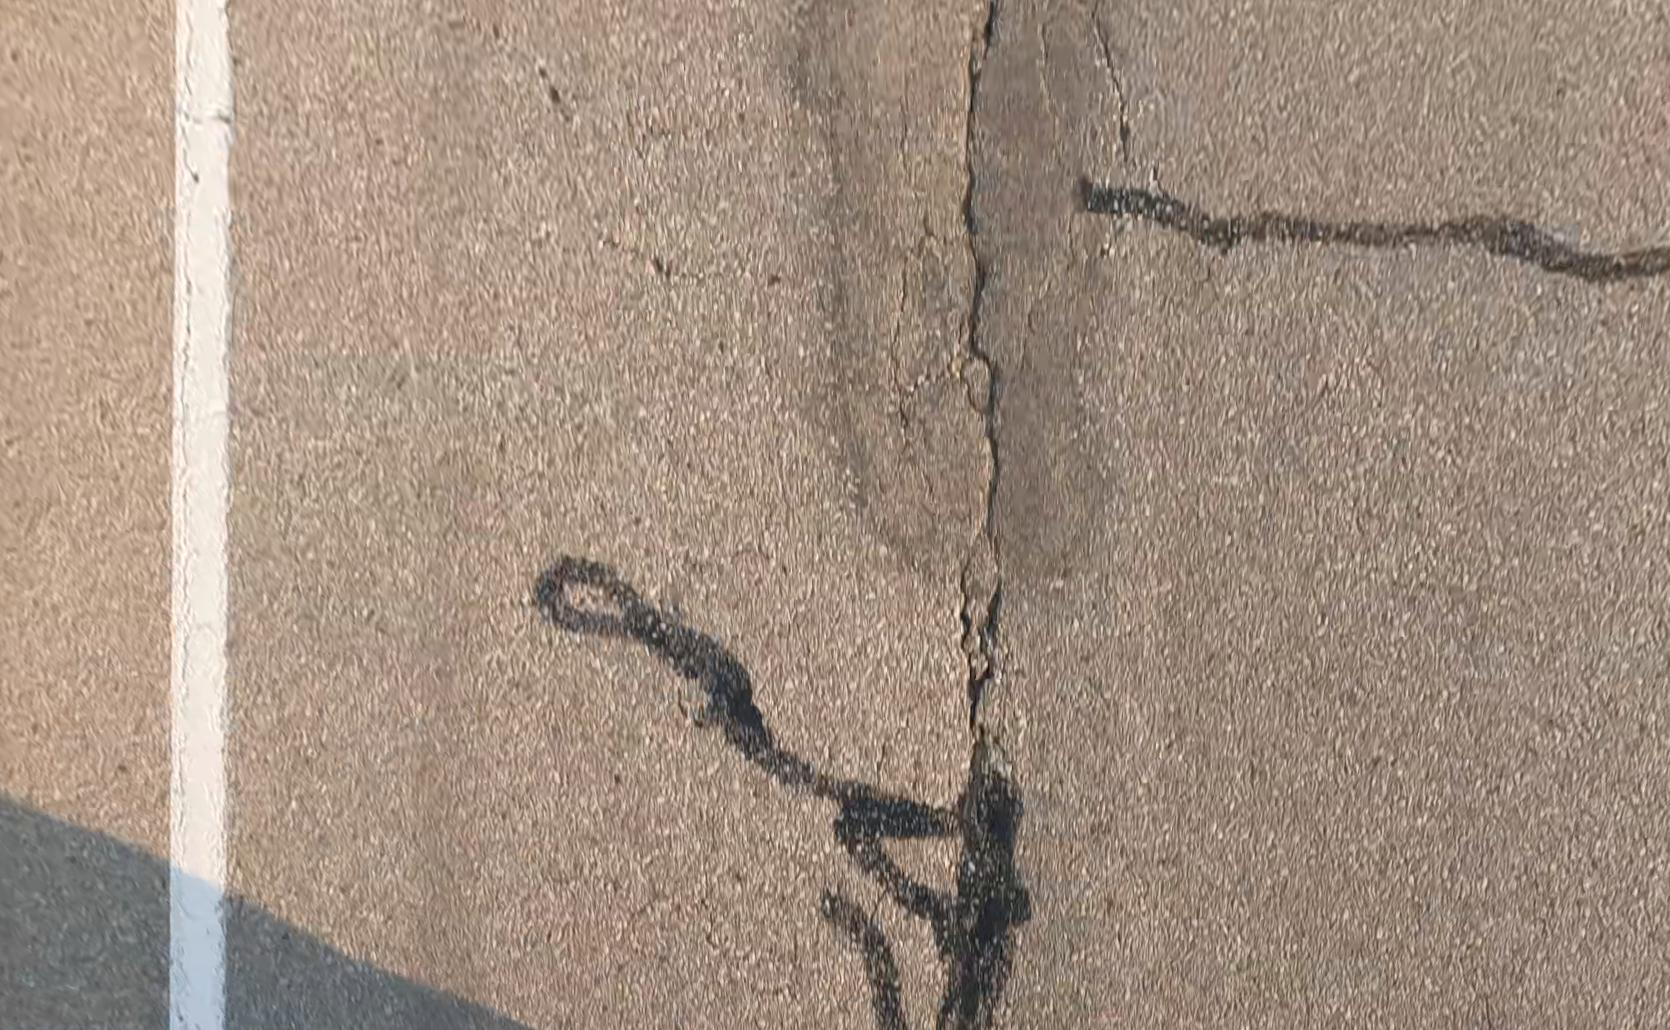pothole_patch_poor: (802, 1, 1148, 588)
